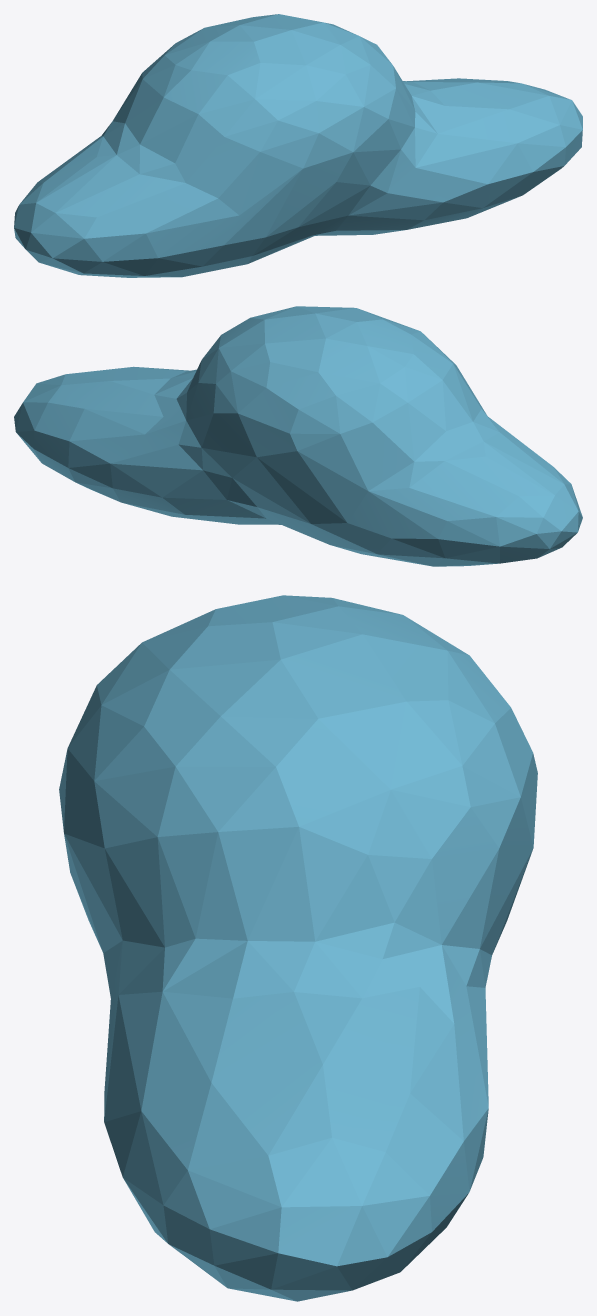
Rendered from oval_cloud_2.fbx.
3 renders of one model, top to bottom at view 1: azimuth 30°, elevation 25°; view 2: azimuth 150°, elevation 25°; view 3: azimuth 270°, elevation 25°, orthographic. The views are drawn at different scales.
Parts seen in each view (by area): view 1: cloud_62; view 2: cloud_62; view 3: cloud_62.
Part boxes in pixels (x1=…): cloud_62: x1=14, y1=14, x2=582, y2=277; cloud_62: x1=14, y1=306, x2=582, y2=566; cloud_62: x1=59, y1=595, x2=537, y2=1301.
Size of the model in its own units: 565 by 213 by 212.
